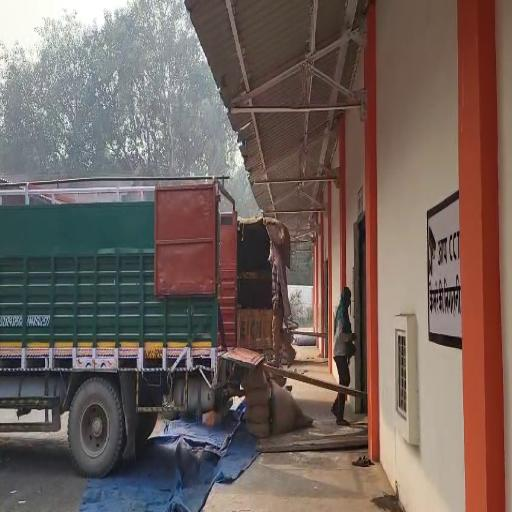bag: (263, 214, 293, 270)
